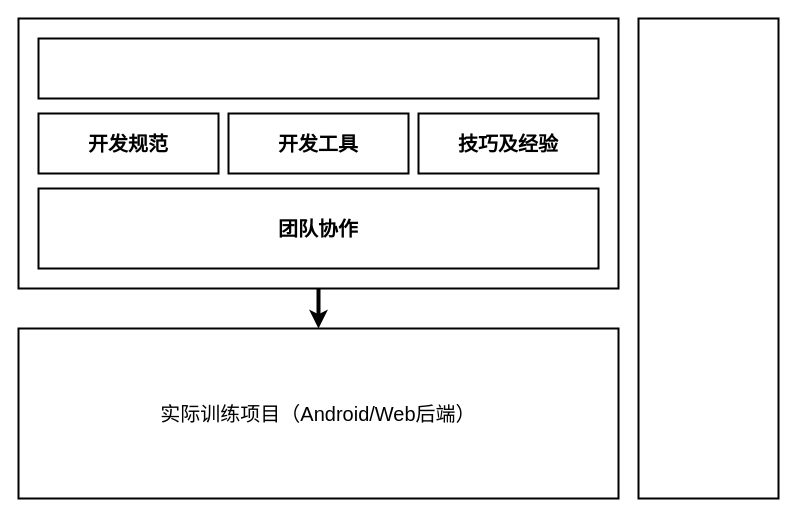
Some shapes in this 796 by 516 pixel diagram are drawn without their labels. The shapes that lost their labels are listed below. From the top down, each one's centre as x and y in pixels, then its label:
the point at 318,68: Java基础
the point at 708,258: Java技术进阶
